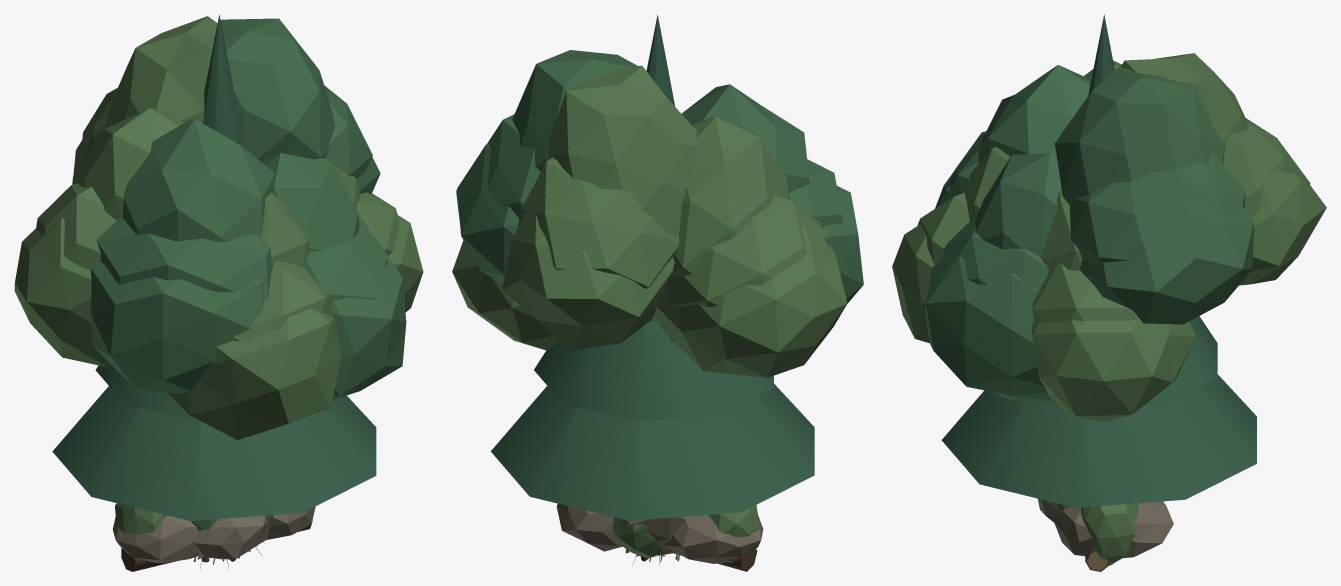
File: normal.glb
3 renders of one model, left to right at view 1: azimuth 30°, elevation 25°; view 2: azimuth 150°, elevation 25°; view 3: azimuth 270°, elevation 25°, orthographic. The views are drawn at different scales.
Visible parts, largest first — view 1: beech-upright__normal, oak-spreading__normal, pine-tiered__normal, birch-open__normal, outcrop-layered__normal, hedge-fragment__normal; view 2: pine-tiered__normal, oak-spreading__normal, beech-upright__normal, birch-open__normal, outcrop-layered__normal, hedge-fragment__normal, hazel-shrub__normal, boulder-rounded__normal; view 3: oak-spreading__normal, beech-upright__normal, pine-tiered__normal, birch-open__normal, outcrop-layered__normal, hedge-fragment__normal.
Part boxes in pixels (x1,y1,x2,y2): beech-upright__normal: (72,16,360,267); oak-spreading__normal: (14,140,423,440); pine-tiered__normal: (52,14,376,520); birch-open__normal: (36,85,399,341); outcrop-layered__normal: (112,506,315,563); hedge-fragment__normal: (115,503,167,562); pine-tiered__normal: (491,15,814,553); oak-spreading__normal: (452,143,863,554); beech-upright__normal: (512,50,809,341); birch-open__normal: (487,114,842,307); outcrop-layered__normal: (556,503,763,563); hedge-fragment__normal: (708,505,758,563); hazel-shrub__normal: (613,517,665,557); boulder-rounded__normal: (624,516,690,552); oak-spreading__normal: (892,170,1326,422); beech-upright__normal: (963,53,1248,271); pine-tiered__normal: (941,14,1256,507); birch-open__normal: (917,118,1310,331); outcrop-layered__normal: (1038,498,1173,558); hedge-fragment__normal: (1080,503,1138,565).
Bounding box in the file's own units: 7.87 × 10.51 × 7.95.
